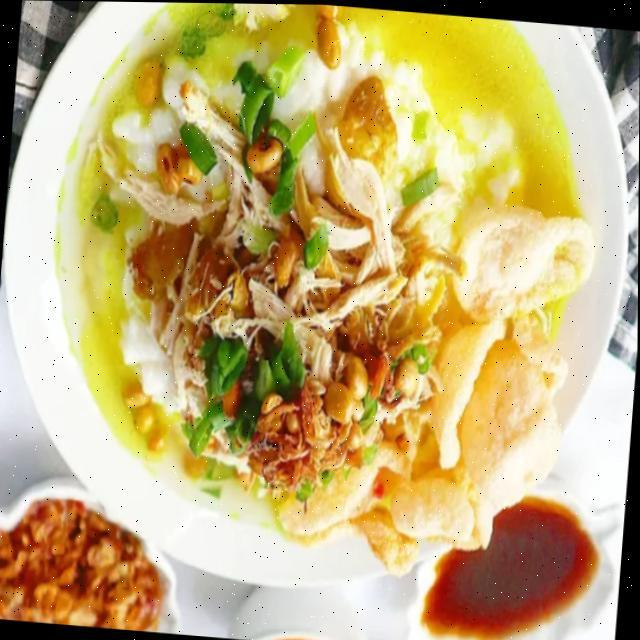bubur ayam: (32, 1, 613, 562)
mangkuk: (0, 0, 640, 629), (400, 464, 622, 640), (0, 468, 191, 633), (226, 575, 377, 640)
